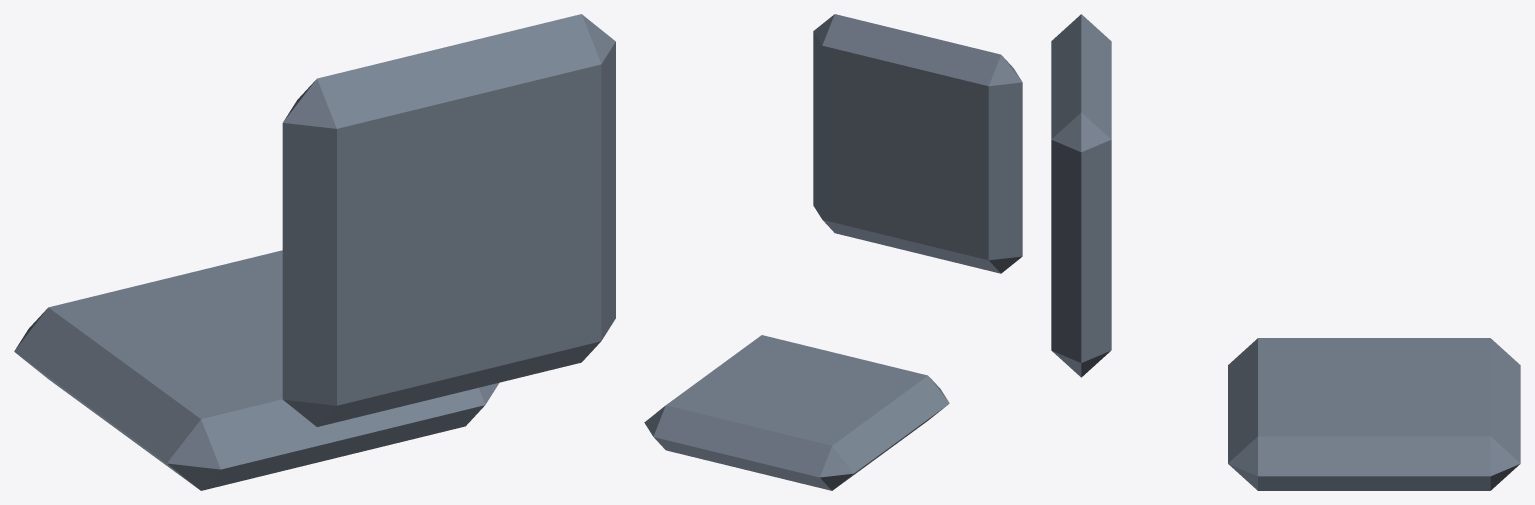
The model's file is seat.glb.
The picture shows the model from 3 angles, left to right: view 1: azimuth 30°, elevation 25°; view 2: azimuth 150°, elevation 25°; view 3: azimuth 270°, elevation 25°; orthographic projection. The views are drawn at different scales.
Parts seen in each view (by area): view 1: Cube; view 2: Cube; view 3: Cube.
Boxes of the visible parts, x1=… form: Cube: x1=14, y1=14, x2=615, y2=490; Cube: x1=644, y1=14, x2=1022, y2=490; Cube: x1=1051, y1=14, x2=1520, y2=490.
Size of the model in its own units: 0.17 by 0.2425 by 0.2725.
